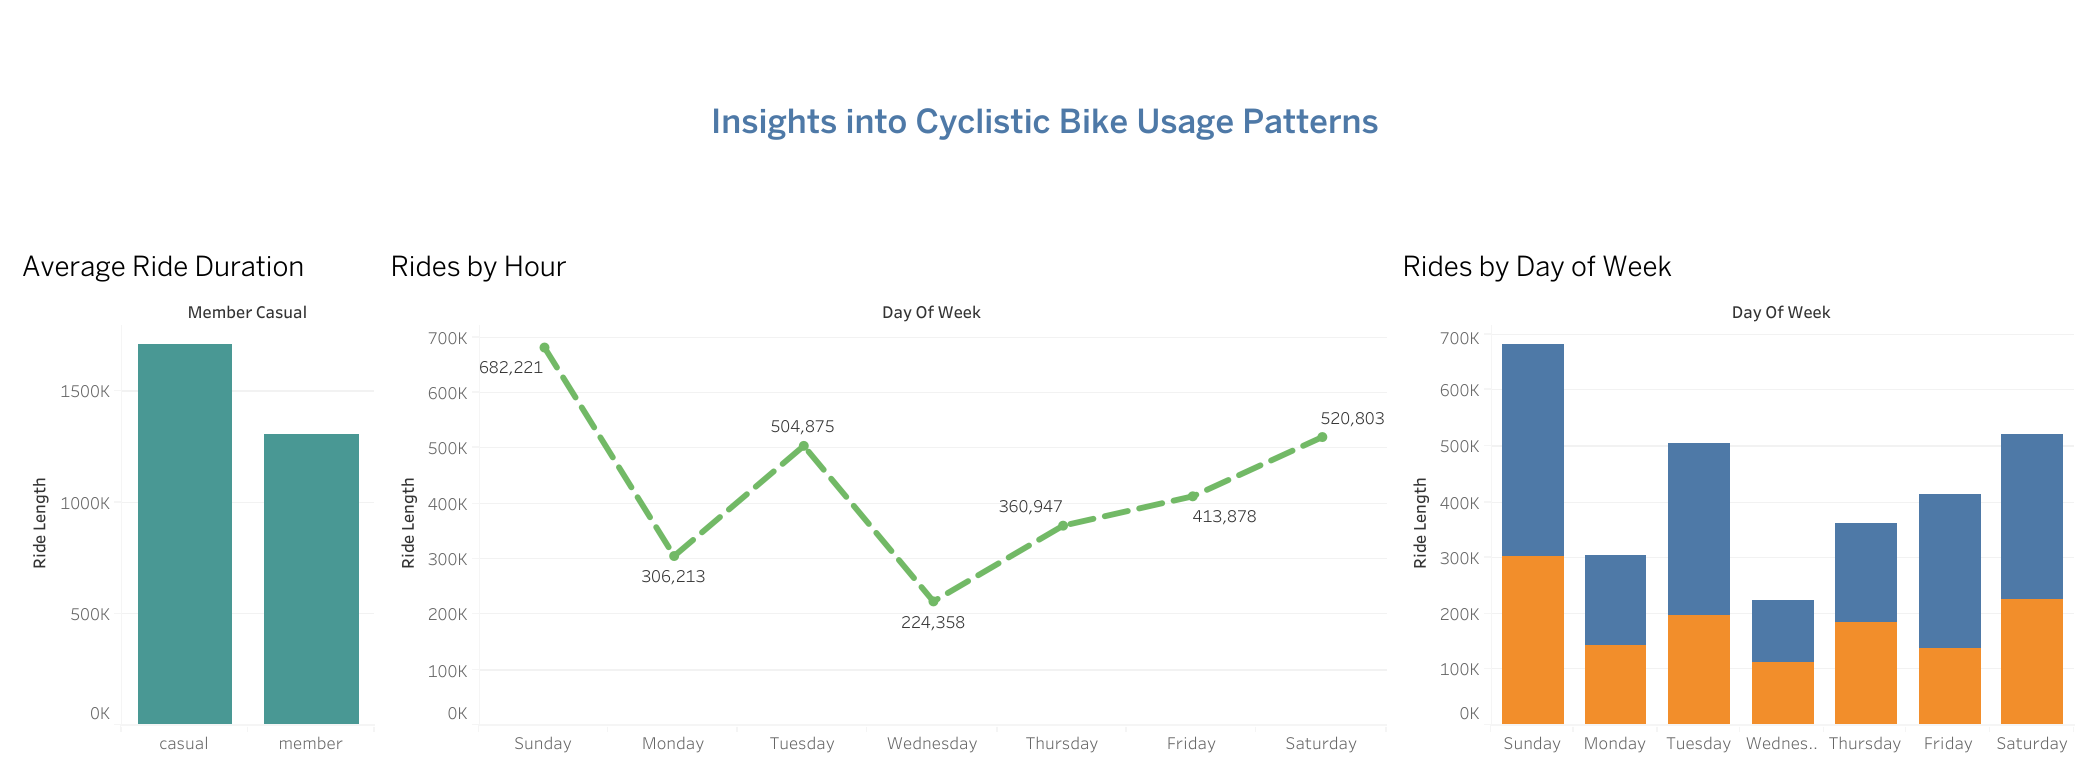

The page's visual inventory and layout, read from the dashboard file:
{"tool":"tableau","page":{"name":"Dashboard 1","canvas":[1000,1000],"units":"permille","ordinal":0},"visuals":[{"type":"title","box":[4.8,10,990.3,202.2]},{"type":"worksheet","title":"Sheet 1","mark":"Automatic","rows":["ride_length"],"cols":["member_casual"],"box":[4.8,212.2,176.2,777.8]},{"type":"worksheet","title":"Sheet 3","mark":"Line","rows":["ride_length"],"cols":["day_of_week"],"box":[181.1,212.2,485.2,777.8]},{"type":"worksheet","title":"Sheet 2","mark":"Automatic","rows":["ride_length"],"cols":["day_of_week"],"box":[666.3,212.2,328.9,777.8]}]}

Visuals, with their boxes on the dashboard's canvas, which has no fixed pixel size, in thousandths of its width and height (x1, y1, x2, y2). These are canvas units, not pixel positions in the 2089x770 screenshot, which may show the page scaled, cropped or inside an application window:
title: 5/10/995/212
"Sheet 1" worksheet: 5/212/181/990
"Sheet 3" worksheet (Line marks): 181/212/666/990
"Sheet 2" worksheet: 666/212/995/990
